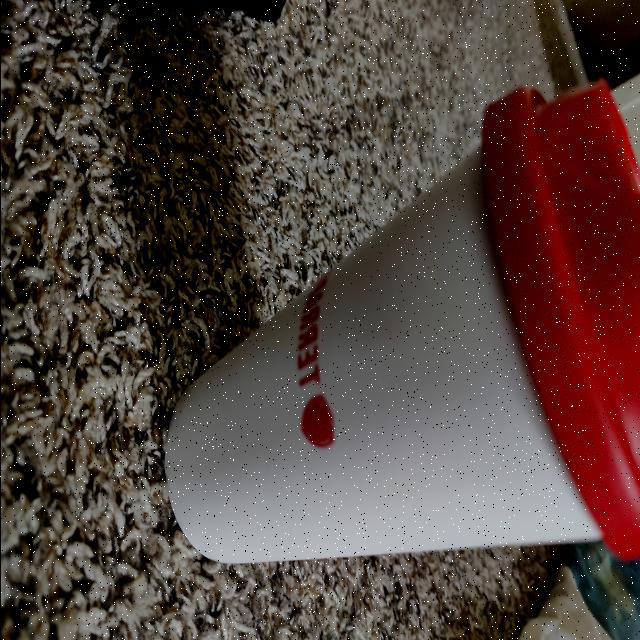mug: (156, 88, 640, 562)
